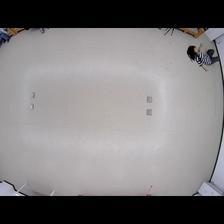fall: (188, 43, 219, 72)
